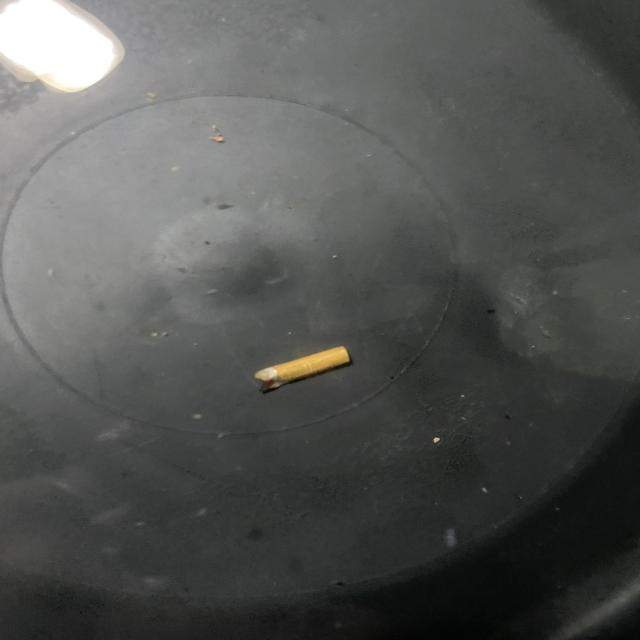Cigarette Filter: (242, 335, 364, 401)
